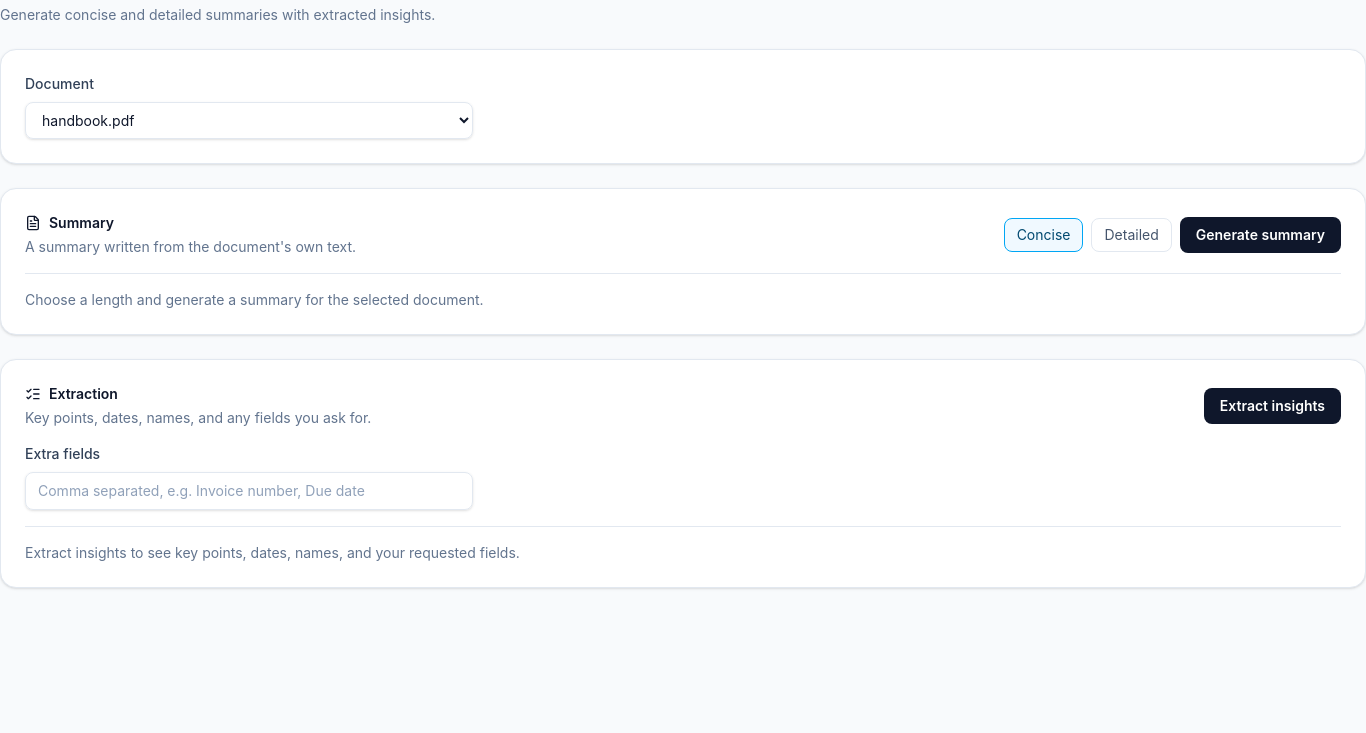
SummariesPage › extracts insights and renders every collection
In the field with placeholder "Comma separated, e.g. Invoice number, Due date": (249, 491) [25,472,473,510], type "Invoice number, Due date"
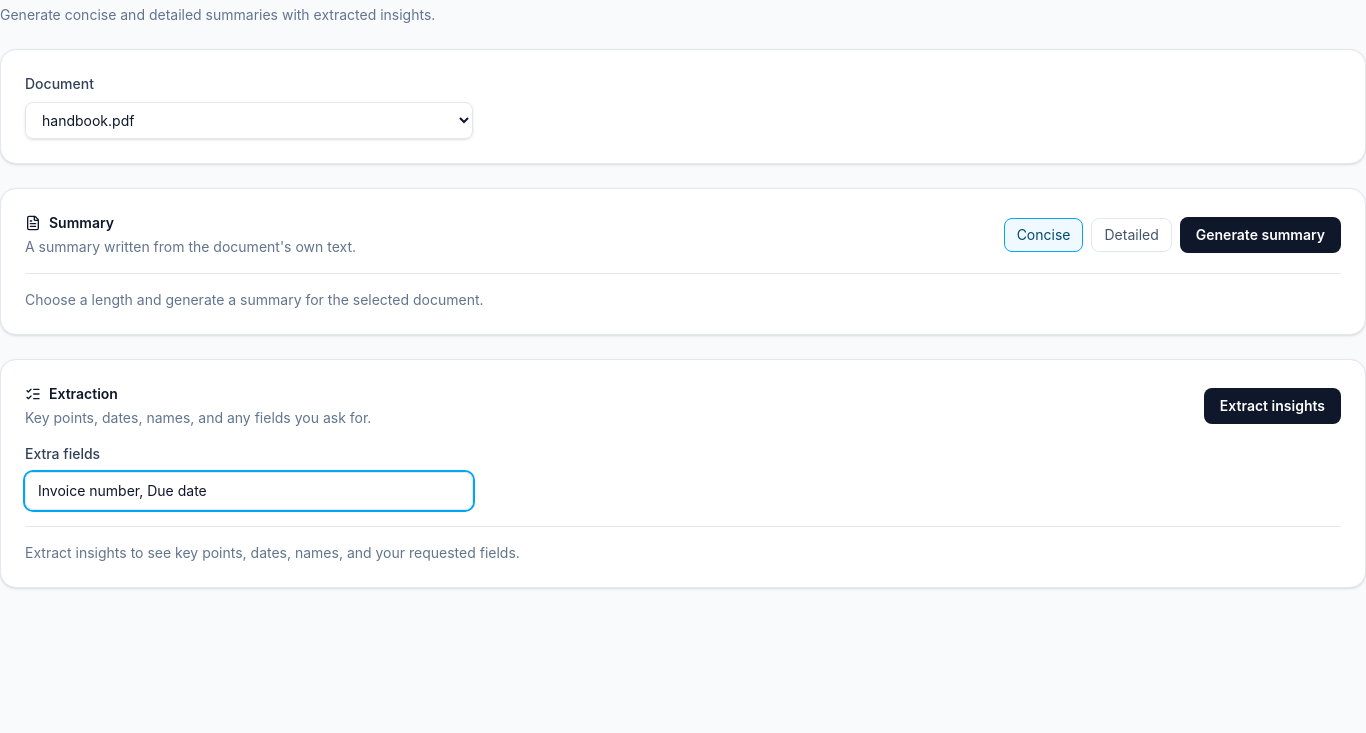
Click the button "Extract insights": (1272, 406) [1204,388,1341,424]
(page scrolled)
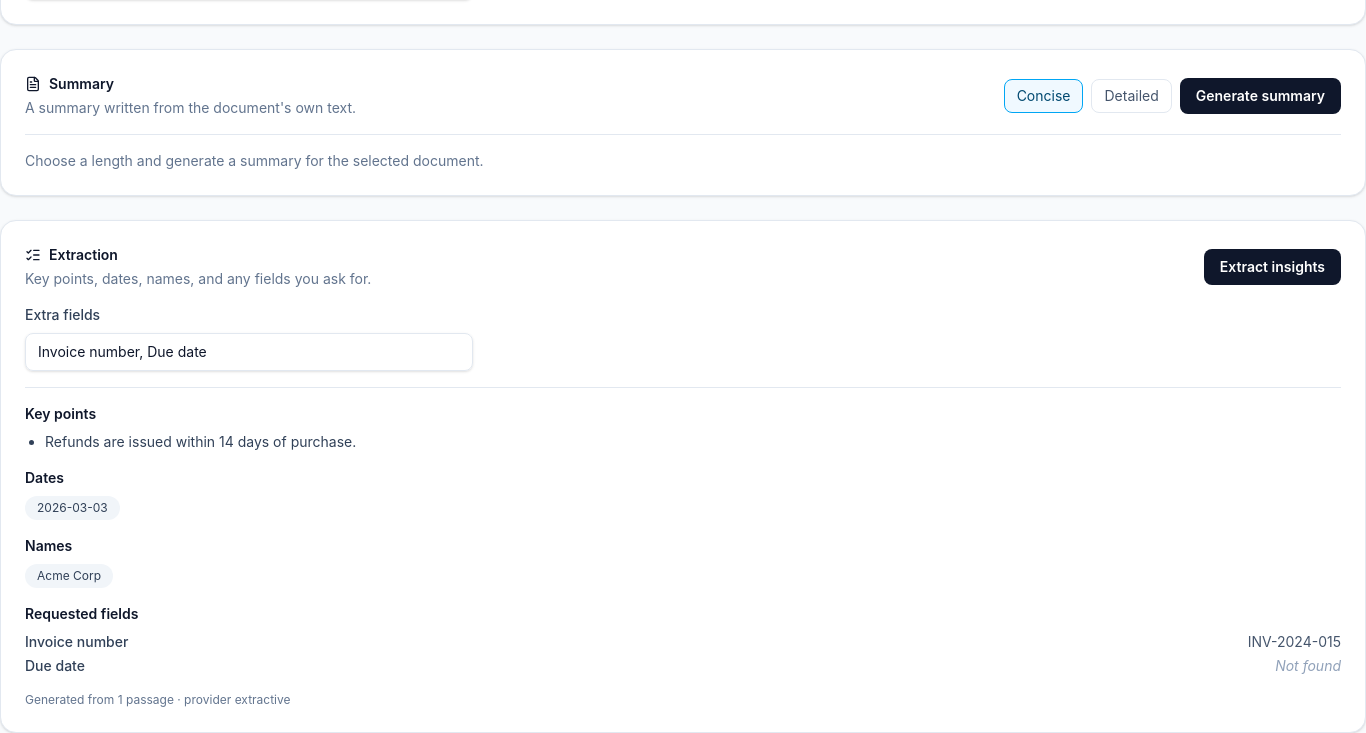
Expected: the list item "Refunds are issued within 14 days of purchase." is shown, [45,433,356,450]
Expected: the text "2026-03-03" is shown, [25,496,120,520]
Expected: the text "Acme Corp" is shown, [25,564,113,588]
